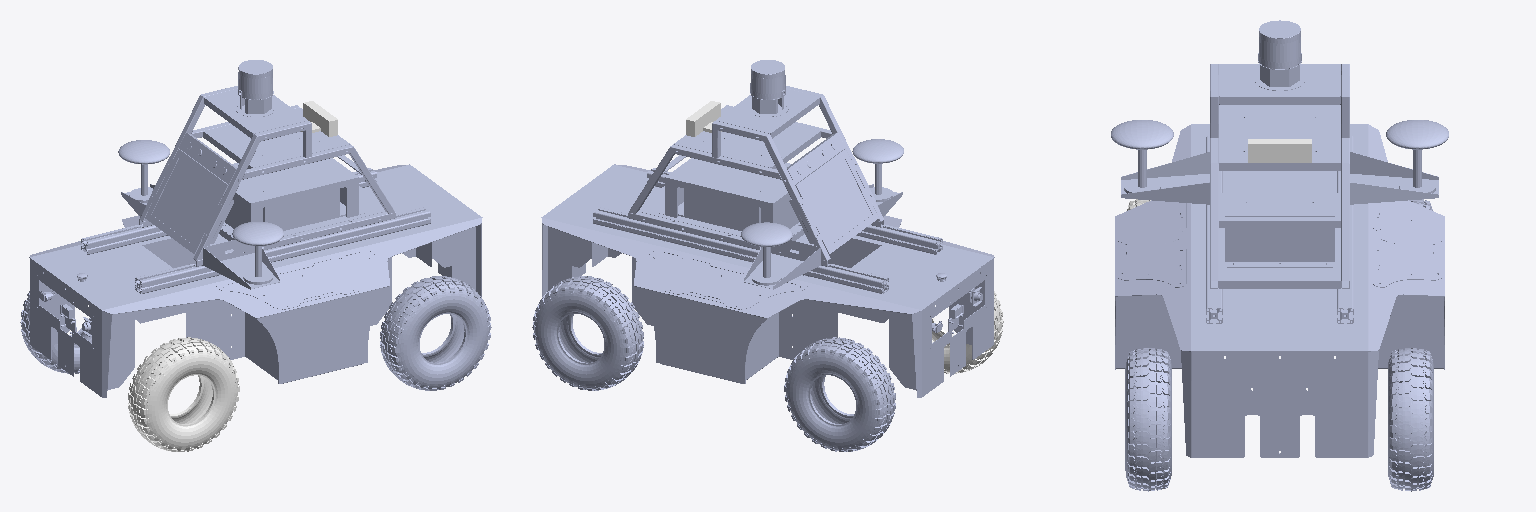
The robot description file, URDF, robot "test9":
<?xml version="1.0" encoding="utf-8"?>
<!-- This URDF was automatically created by SolidWorks to URDF Exporter! Originally created by [author] ([email redacted]) 
     Commit Version: 1.6.0-4-g7f85cfe  Build Version: 1.6.7995.38578
     For more information, please see http://wiki.ros.org/sw_urdf_exporter -->
<robot
  name="test9">
    <gazebo>
    <plugin name="gazebo_ros_control"  filename="libgazebo_ros_control.so">
      <robotSimType>steer_bot_hardware_gazebo/SteerBotHardwareGazebo</robotSimType>
      <legacyModeNS>false</legacyModeNS>
    </plugin>
  </gazebo>
  <link
    name="base_link">
    <inertial>
      <origin
        xyz="-0.0070857 -0.00022102 0.54657"
        rpy="0 0 0" />
      <mass
        value="15.051" />
      <inertia
        ixx="0.11965"
        ixy="-1.6769E-06"
        ixz="-0.0034836"
        iyy="0.29664"
        iyz="-2.1065E-06"
        izz="0.36527" />
    </inertial>
    <visual>
      <origin
        xyz="0 0 0"
        rpy="0 0 0" />
      <geometry>
        <mesh
          filename="package://test9/meshes/base_link.STL" />
      </geometry>
      <material
        name="">
        <color
          rgba="0.79216 0.81961 0.93333 1" />
      </material>
    </visual>
    <collision>
      <origin
        xyz="0 0 0"
        rpy="0 0 0" />
      <geometry>
        <mesh
          filename="package://test9/meshes/base_link.STL" />
      </geometry>
    </collision>
  </link>
  <link
    name="front_steer_link">
    <inertial>
      <origin
        xyz="1.1102E-16 -1.3587E-18 -0.000375"
        rpy="0 0 0" />
      <mass
        value="2.0944E-06" />
      <inertia
        ixx="5.4323E-13"
        ixy="-1.0771E-28"
        ixz="-1.0797E-27"
        iyy="5.4323E-13"
        iyz="1.0693E-27"
        izz="8.3776E-13" />
    </inertial>
    <visual>
      <origin
        xyz="0 0 0"
        rpy="0 0 0" />
      <geometry>
        <mesh
          filename="package://test9/meshes/front_steer_link.STL" />
      </geometry>
      <material
        name="">
        <color
          rgba="1 1 1 1" />
      </material>
    </visual>
    <collision>
      <origin
        xyz="0 0 0"
        rpy="0 0 0" />
      <geometry>
        <mesh
          filename="package://test9/meshes/front_steer_link.STL" />
      </geometry>
    </collision>
  </link>
  <joint
    name="front_steer_joint"
    type="revolute">
    <origin
      xyz="0.42 0 0"
      rpy="0 0 0" />
    <parent
      link="base_link" />
    <child
      link="front_steer_link" />
    <axis
      xyz="0 0 1" />
    <limit
      lower="-0.72"
      upper="0.72"
      effort="0"
      velocity="0" />
  </joint>
  <link
    name="front_steer_left_link">
    <inertial>
      <origin
        xyz="3.8858E-16 0 0.001"
        rpy="0 0 0" />
      <mass
        value="0.00015708" />
      <inertia
        ixx="1.0341E-09"
        ixy="2.351E-38"
        ixz="-6.7093E-24"
        iyy="1.0341E-09"
        iyz="-3.4563E-24"
        izz="1.9635E-09" />
    </inertial>
    <visual>
      <origin
        xyz="0 0 0"
        rpy="0 0 0" />
      <geometry>
        <mesh
          filename="package://test9/meshes/front_steer_left_link.STL" />
      </geometry>
      <material
        name="">
        <color
          rgba="1 1 1 1" />
      </material>
    </visual>
    <collision>
      <origin
        xyz="0 0 0"
        rpy="0 0 0" />
      <geometry>
        <mesh
          filename="package://test9/meshes/front_steer_left_link.STL" />
      </geometry>
    </collision>
  </link>
  <joint
    name="front_steer_left_joint"
    type="revolute">
    <origin
      xyz="0.42 0.31 0.26937"
      rpy="0 0 0" />
    <parent
      link="base_link" />
    <child
      link="front_steer_left_link" />
    <axis
      xyz="0 0 1" />
    <limit
      lower="-0.61"
      upper="0.61"
      effort="0"
      velocity="0" />
  </joint>
  <link
    name="front_left_wheel_link">
    <inertial>
      <origin
        xyz="-1.6252E-08 1.9746E-07 -4.9513E-09"
        rpy="0 0 0" />
      <mass
        value="2.3611" />
      <inertia
        ixx="0.025953"
        ixy="3.9277E-10"
        ixz="-1.096E-12"
        iyy="0.045436"
        iyz="9.5777E-09"
        izz="0.025953" />
    </inertial>
    <visual>
      <origin
        xyz="0 0 0"
        rpy="0 0 0" />
      <geometry>
        <mesh
          filename="package://test9/meshes/front_left_wheel_link.STL" />
      </geometry>
      <material
        name="">
        <color
          rgba="0.79216 0.81961 0.93333 1" />
      </material>
    </visual>
    <collision>
      <origin
        xyz="0 0 0"
        rpy="0 0 0" />
      <geometry>
        <mesh
          filename="package://test9/meshes/front_left_wheel_link.STL" />
      </geometry>
    </collision>
  </link>
  <joint
    name="front_left_wheel_joint"
    type="continuous">
    <origin
      xyz="0 0 -0.1"
      rpy="0 0 0" />
    <parent
      link="front_steer_left_link" />
    <child
      link="front_left_wheel_link" />
    <axis
      xyz="0 1 0" />
  </joint>
  <link
    name="front_steer_right_link ">
    <inertial>
      <origin
        xyz="3.3307E-16 0 0.001"
        rpy="0 0 0" />
      <mass
        value="0.00015708" />
      <inertia
        ixx="1.0341E-09"
        ixy="-6.6122E-38"
        ixz="-6.7093E-24"
        iyy="1.0341E-09"
        iyz="9.9462E-24"
        izz="1.9635E-09" />
    </inertial>
    <visual>
      <origin
        xyz="0 0 0"
        rpy="0 0 0" />
      <geometry>
        <mesh
          filename="package://test9/meshes/front_steer_right_link .STL" />
      </geometry>
      <material
        name="">
        <color
          rgba="1 1 1 1" />
      </material>
    </visual>
    <collision>
      <origin
        xyz="0 0 0"
        rpy="0 0 0" />
      <geometry>
        <mesh
          filename="package://test9/meshes/front_steer_right_link .STL" />
      </geometry>
    </collision>
  </link>
  <joint
    name="front_steer_right_joint"
    type="revolute">
    <origin
      xyz="0.42 -0.31 0.26937"
      rpy="0 0 0" />
    <parent
      link="base_link" />
    <child
      link="front_steer_right_link " />
    <axis
      xyz="0 0 1" />
    <limit
      lower="-0.61"
      upper="0.61"
      effort="0"
      velocity="0" />
  </joint>
  <link
    name="front_right_wheel_link">
    <inertial>
      <origin
        xyz="1.6252E-08 -1.9746E-07 -4.9515E-09"
        rpy="0 0 0" />
      <mass
        value="2.3611" />
      <inertia
        ixx="0.025953"
        ixy="3.9279E-10"
        ixz="9.4373E-13"
        iyy="0.045436"
        iyz="-9.5777E-09"
        izz="0.025953" />
    </inertial>
    <visual>
      <origin
        xyz="0 0 0"
        rpy="0 0 0" />
      <geometry>
        <mesh
          filename="package://test9/meshes/front_right_wheel_link.STL" />
      </geometry>
      <material
        name="">
        <color
          rgba="0.79216 0.81961 0.93333 1" />
      </material>
    </visual>
    <collision>
      <origin
        xyz="0 0 0"
        rpy="0 0 0" />
      <geometry>
        <mesh
          filename="package://test9/meshes/front_right_wheel_link.STL" />
      </geometry>
    </collision>
  </link>
  <joint
    name="front_right_wheel_joint"
    type="continuous">
    <origin
      xyz="0 0 -0.1"
      rpy="0 0 0" />
    <parent
      link="front_steer_right_link " />
    <child
      link="front_right_wheel_link" />
    <axis
      xyz="0 1 0" />
  </joint>
  <link
    name="rear_wheel_link ">
    <inertial>
      <origin
        xyz="-5.5511E-17 -1.3587E-18 -0.000375"
        rpy="0 0 0" />
      <mass
        value="2.0944E-06" />
      <inertia
        ixx="5.4323E-13"
        ixy="-1.0771E-28"
        ixz="-1.0797E-27"
        iyy="5.4323E-13"
        iyz="1.0693E-27"
        izz="8.3776E-13" />
    </inertial>
    <visual>
      <origin
        xyz="0 0 0"
        rpy="0 0 0" />
      <geometry>
        <mesh
          filename="package://test9/meshes/rear_wheel_link .STL" />
      </geometry>
      <material
        name="">
        <color
          rgba="1 1 1 1" />
      </material>
    </visual>
    <collision>
      <origin
        xyz="0 0 0"
        rpy="0 0 0" />
      <geometry>
        <mesh
          filename="package://test9/meshes/rear_wheel_link .STL" />
      </geometry>
    </collision>
  </link>
  <joint
    name="rear_wheel_joint"
    type="continuous">
    <origin
      xyz="-0.42 0 0.16937"
      rpy="0 0 0" />
    <parent
      link="base_link" />
    <child
      link="rear_wheel_link " />
    <axis
      xyz="0 1 0" />
  </joint>
  <link
    name="camera">
    <inertial>
      <origin
        xyz="0.015 -1.4324E-16 2.2204E-15"
        rpy="0 0 0" />
      <mass
        value="0.225" />
      <inertia
        ixx="0.00046875"
        ixy="-4.2534E-18"
        ixz="1.1402E-19"
        iyy="6.375E-05"
        iyz="1.3093E-18"
        izz="0.00043875" />
    </inertial>
    <visual>
      <origin
        xyz="0 0 0"
        rpy="0 0 0" />
      <geometry>
        <mesh
          filename="package://test9/meshes/camera.STL" />
      </geometry>
      <material
        name="">
        <color
          rgba="1 1 1 1" />
      </material>
    </visual>
    <collision>
      <origin
        xyz="0 0 0"
        rpy="0 0 0" />
      <geometry>
        <mesh
          filename="package://test9/meshes/camera.STL" />
      </geometry>
    </collision>
  </link>
  <joint
    name="camera_joint"
    type="fixed">
    <origin
      xyz="0.20158 0 0.77527"
      rpy="0 0 0" />
    <parent
      link="base_link" />
    <child
      link="camera" />
    <axis
      xyz="0 0 0" />
  </joint>
  <link
    name="imu">
    <inertial>
      <origin
        xyz="-2.276E-15 1.7457E-17 0.005"
        rpy="0 0 0" />
      <mass
        value="0.025" />
      <inertia
        ixx="5.4167E-06"
        ixy="2.7218E-22"
        ixz="-1.8636E-20"
        iyy="5.4167E-06"
        iyz="1.7413E-20"
        izz="1.0417E-05" />
    </inertial>
    <visual>
      <origin
        xyz="0 0 0"
        rpy="0 0 0" />
      <geometry>
        <mesh
          filename="package://test9/meshes/imu.STL" />
      </geometry>
      <material
        name="">
        <color
          rgba="1 1 1 1" />
      </material>
    </visual>
    <collision>
      <origin
        xyz="0 0 0"
        rpy="0 0 0" />
      <geometry>
        <mesh
          filename="package://test9/meshes/imu.STL" />
      </geometry>
    </collision>
  </link>
  <joint
    name="imu_joint"
    type="fixed">
    <origin
      xyz="0.17658 0 0.75027"
      rpy="0 0 0" />
    <parent
      link="base_link" />
    <child
      link="imu" />
    <axis
      xyz="0 0 0" />
  </joint>
  <link
    name="left_rear_link">
    <inertial>
      <origin
        xyz="-1.6252E-08 1.9746E-07 -4.9512E-09"
        rpy="0 0 0" />
      <mass
        value="2.3611" />
      <inertia
        ixx="0.025953"
        ixy="3.9266E-10"
        ixz="-8.3216E-13"
        iyy="0.045436"
        iyz="9.5777E-09"
        izz="0.025953" />
    </inertial>
    <visual>
      <origin
        xyz="0 0 0"
        rpy="0 0 0" />
      <geometry>
        <mesh
          filename="package://test9/meshes/left_rear_link.STL" />
      </geometry>
      <material
        name="">
        <color
          rgba="0.79216 0.81961 0.93333 1" />
      </material>
    </visual>
    <collision>
      <origin
        xyz="0 0 0"
        rpy="0 0 0" />
      <geometry>
        <mesh
          filename="package://test9/meshes/left_rear_link.STL" />
      </geometry>
    </collision>
  </link>
  <joint
    name="left_rear_joint"
    type="continuous">
    <origin
      xyz="-0.42 0.31 0.16937"
      rpy="0 0 0" />
    <parent
      link="base_link" />
    <child
      link="left_rear_link" />
    <axis
      xyz="0 1 0" />
    <limit
      lower="-3.14"
      upper="3.14"
      effort="0"
      velocity="0" />
  </joint>
  <link
    name="right_rear_link">
    <inertial>
      <origin
        xyz="1.6252E-08 -1.9746E-07 -4.9512E-09"
        rpy="0 0 0" />
      <mass
        value="2.3611" />
      <inertia
        ixx="0.025953"
        ixy="3.9279E-10"
        ixz="9.4373E-13"
        iyy="0.045436"
        iyz="-9.5777E-09"
        izz="0.025953" />
    </inertial>
    <visual>
      <origin
        xyz="0 0 0"
        rpy="0 0 0" />
      <geometry>
        <mesh
          filename="package://test9/meshes/right_rear_link.STL" />
      </geometry>
      <material
        name="">
        <color
          rgba="1 1 1 1" />
      </material>
    </visual>
    <collision>
      <origin
        xyz="0 0 0"
        rpy="0 0 0" />
      <geometry>
        <mesh
          filename="package://test9/meshes/right_rear_link.STL" />
      </geometry>
    </collision>
  </link>
  <joint
    name="right_rear_joint"
    type="continuous">
    <origin
      xyz="-0.42 -0.31 0.16937"
      rpy="0 0 0" />
    <parent
      link="base_link" />
    <child
      link="right_rear_link" />
    <axis
      xyz="0 1 0" />
    <limit
      lower="-3.14"
      upper="3.14"
      effort="0"
      velocity="0" />
  </joint>
    <!--add color for links -->
  <gazebo reference="base_link">
    <material>Gazebo/DarkGrey </material>
  </gazebo>

  <gazebo reference="front_steer_left_link">
    <material>Gazebo/Road</material>
  </gazebo>

  <gazebo reference="front_steer_right_link">
    <material>Gazebo/Road</material>
  </gazebo>

  <gazebo reference="front_left_wheel_link">
    <material>Gazebo/Road</material>
  </gazebo>

  <gazebo reference="front_right_wheel_link">
    <material>Gazebo/Road</material>
  </gazebo>
  
  <gazebo reference="left_rear_link">
    <material>Gazebo/Road</material>
  </gazebo>

  <gazebo reference="right_rear_link">
    <material>Gazebo/Road</material>
  </gazebo>

  
   <gazebo reference="camera">
    <material>Gazebo/Black</material>
  </gazebo>

  <gazebo reference="imu">
    <material>Gazebo/Black</material>
  </gazebo>
</robot>

--- What the picture shows (computed from the rendered views, not written in the file) ---
The picture shows the robot from 3 angles, left to right: view 1: azimuth 30°, elevation 25°; view 2: azimuth 150°, elevation 25°; view 3: azimuth 270°, elevation 25°; orthographic projection.
Robot: test9 — 11 links, 10 joints (3 revolute, 5 continuous, 2 fixed); root link base_link; default pose: every joint at zero.
Links seen in each view (by area): view 1: base_link, front_right_wheel_link, right_rear_link, left_rear_link, camera; view 2: base_link, front_left_wheel_link, left_rear_link, right_rear_link, camera; view 3: base_link, front_right_wheel_link, front_left_wheel_link, camera.
Boxes of the visible links, bbox=[...] form: base_link: bbox=[29, 60, 482, 397]; front_right_wheel_link: bbox=[380, 276, 491, 390]; right_rear_link: bbox=[128, 337, 239, 451]; left_rear_link: bbox=[20, 291, 91, 373]; camera: bbox=[303, 101, 337, 136]; base_link: bbox=[541, 60, 994, 397]; front_left_wheel_link: bbox=[532, 276, 643, 390]; left_rear_link: bbox=[784, 337, 895, 451]; right_rear_link: bbox=[932, 291, 1003, 373]; camera: bbox=[686, 101, 720, 136]; base_link: bbox=[1111, 20, 1448, 457]; front_right_wheel_link: bbox=[1125, 348, 1171, 491]; front_left_wheel_link: bbox=[1388, 348, 1433, 491]; camera: bbox=[1248, 139, 1311, 162].
Bounding box of the posed robot: 1.28 × 0.8016 × 0.9929 m (x, y, z).
11 mesh visuals loaded from 11 distinct referenced files (11 binary STL).